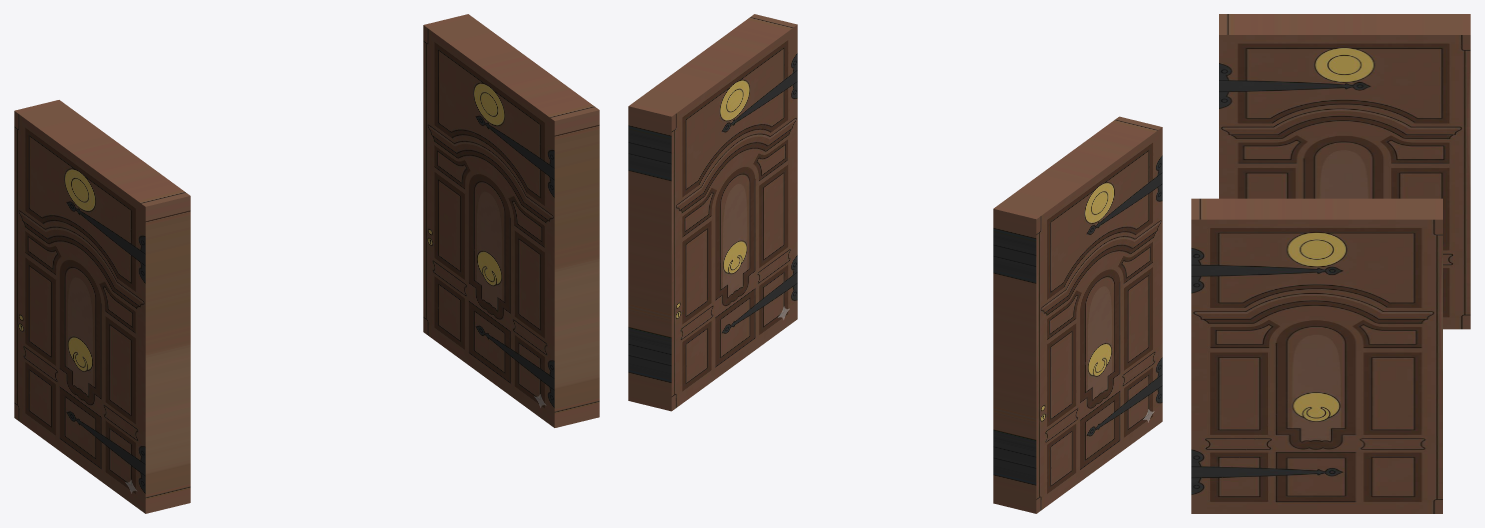
The model's file is puertas2.obj.
3 views of the same model, side by side, from view 1: azimuth 30°, elevation 25°; view 2: azimuth 150°, elevation 25°; view 3: azimuth 270°, elevation 25° (orthographic). The views are drawn at different scales.
Parts seen in each view (by area): view 1: Puerta2; view 2: Puerta2; view 3: Puerta2.
Part boxes in pixels (<box>): Puerta2: <box>14,14,599,513</box>; Puerta2: <box>628,14,1162,513</box>; Puerta2: <box>1191,14,1470,513</box>.
Bounding box in the file's own units: 3.89 × 2.6 × 2.24.
Materials: 1 (1 with a texture image).
